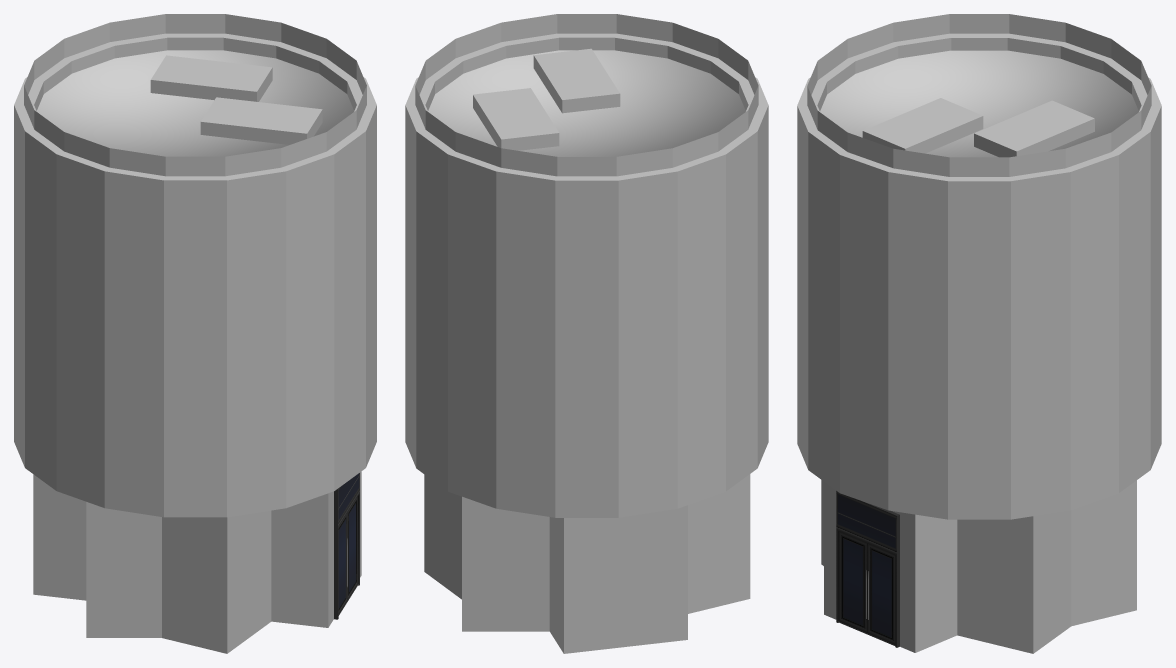
Rendered from Office_Block_lvl_2.fbx.
3 views of the same model, side by side, from view 1: azimuth 30°, elevation 25°; view 2: azimuth 150°, elevation 25°; view 3: azimuth 270°, elevation 25° (orthographic).
Visible parts, largest first — view 1: Office_Block_lvl_2, Office_Block_lvl_2_Fence, Door; view 2: Office_Block_lvl_2, Office_Block_lvl_2_Fence; view 3: Office_Block_lvl_2, Office_Block_lvl_2_Fence, Door.
Boxes of the visible parts, <box> form: Office_Block_lvl_2: <box>14,33,376,653</box>; Office_Block_lvl_2_Fence: <box>24,14,366,176</box>; Door: <box>334,473,359,619</box>; Office_Block_lvl_2: <box>405,33,768,653</box>; Office_Block_lvl_2_Fence: <box>415,14,758,176</box>; Office_Block_lvl_2: <box>797,33,1161,653</box>; Office_Block_lvl_2_Fence: <box>807,14,1151,176</box>; Door: <box>836,491,899,647</box>.
Size of what is drawn, in the model's own units: 883 by 1362 by 897.
